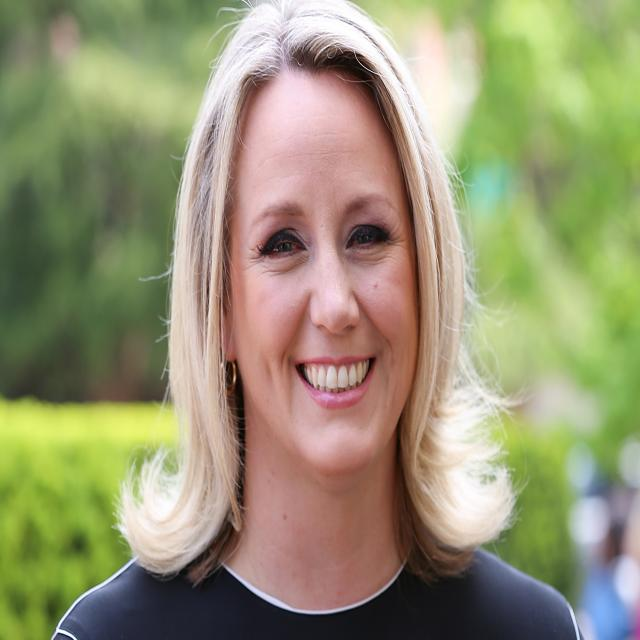mobile_phonerotation: (51, 1, 583, 636)
